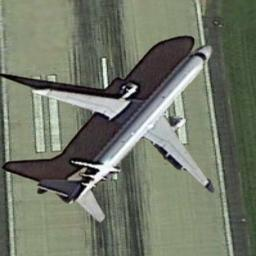Airplane: (0, 34, 215, 223)
